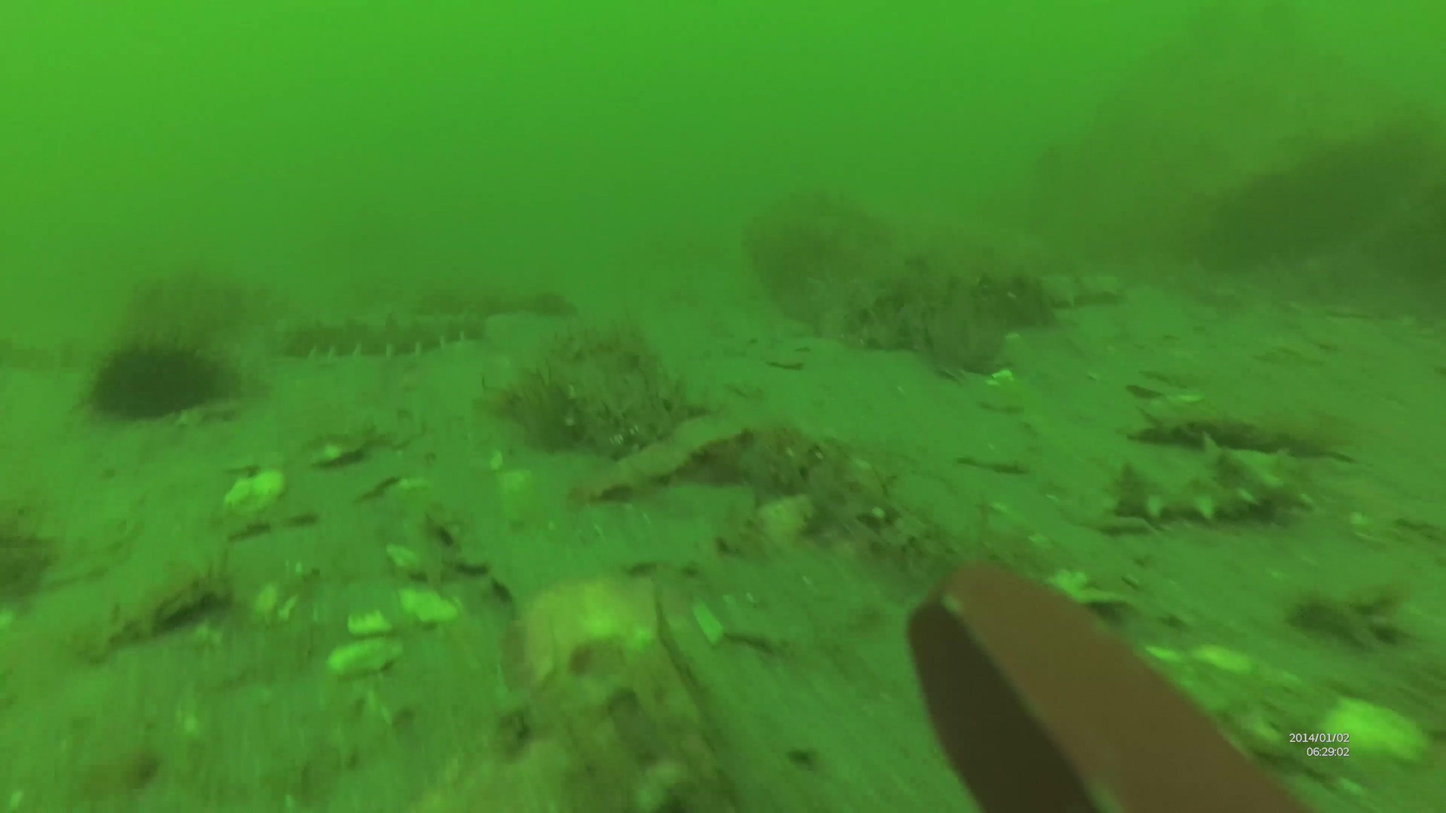echinus: (1088, 446, 1306, 519), (265, 324, 491, 366)
starfish: (82, 348, 224, 416)
